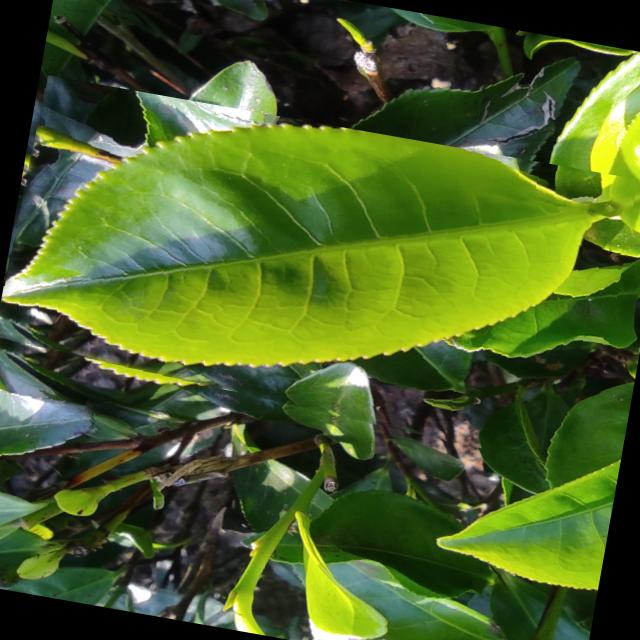Category B(2-4 days): (0, 73, 636, 472)
